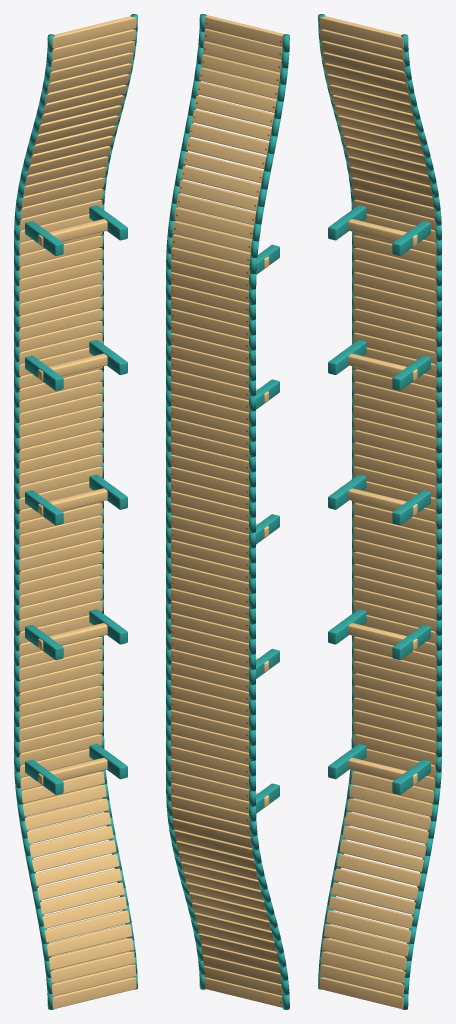
File: RunnerBoardwalk.fbx
3 views of the same model, side by side, from view 1: azimuth 30°, elevation 25°; view 2: azimuth 150°, elevation 25°; view 3: azimuth 330°, elevation 25° (orthographic).
Parts seen in each view (by area): view 1: RunnerBoardwalk; view 2: RunnerBoardwalk; view 3: RunnerBoardwalk.
Part boxes in pixels (left/top/right/bottom): RunnerBoardwalk: left=14, top=14, right=137, bottom=1009; RunnerBoardwalk: left=166, top=14, right=289, bottom=1009; RunnerBoardwalk: left=318, top=14, right=441, bottom=1009.
Size of the model in its own units: 1.25 by 13 by 0.911.
